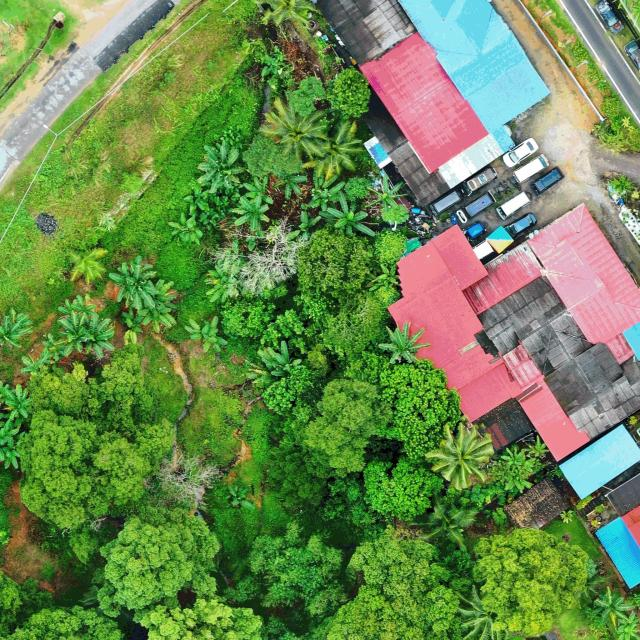Tree: (16, 342, 176, 531), (323, 525, 458, 640), (292, 226, 408, 359), (95, 501, 224, 618), (342, 351, 466, 462), (470, 525, 591, 637), (248, 518, 351, 620), (299, 377, 397, 480), (362, 456, 450, 522), (424, 422, 494, 490), (260, 97, 328, 162), (302, 120, 367, 182), (108, 255, 160, 311), (197, 141, 246, 194), (221, 292, 273, 340), (326, 190, 376, 237), (328, 66, 374, 116), (378, 322, 431, 364), (137, 279, 177, 333), (591, 584, 635, 630), (66, 243, 108, 285), (364, 175, 410, 212), (184, 316, 228, 352), (258, 341, 302, 376), (307, 172, 345, 212), (233, 195, 270, 233), (84, 314, 115, 358), (60, 311, 90, 356), (0, 308, 32, 348), (0, 419, 25, 468), (58, 294, 98, 323), (3, 382, 33, 420), (166, 215, 204, 244), (272, 171, 308, 200), (243, 176, 273, 209), (365, 264, 400, 291), (20, 349, 56, 374), (504, 467, 532, 495), (43, 333, 68, 361), (501, 447, 527, 467), (527, 436, 550, 457)
